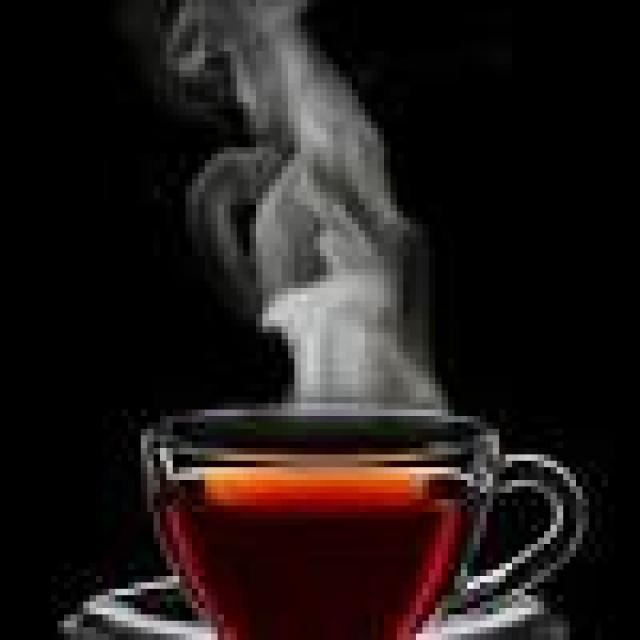taza: (132, 350, 600, 640)
